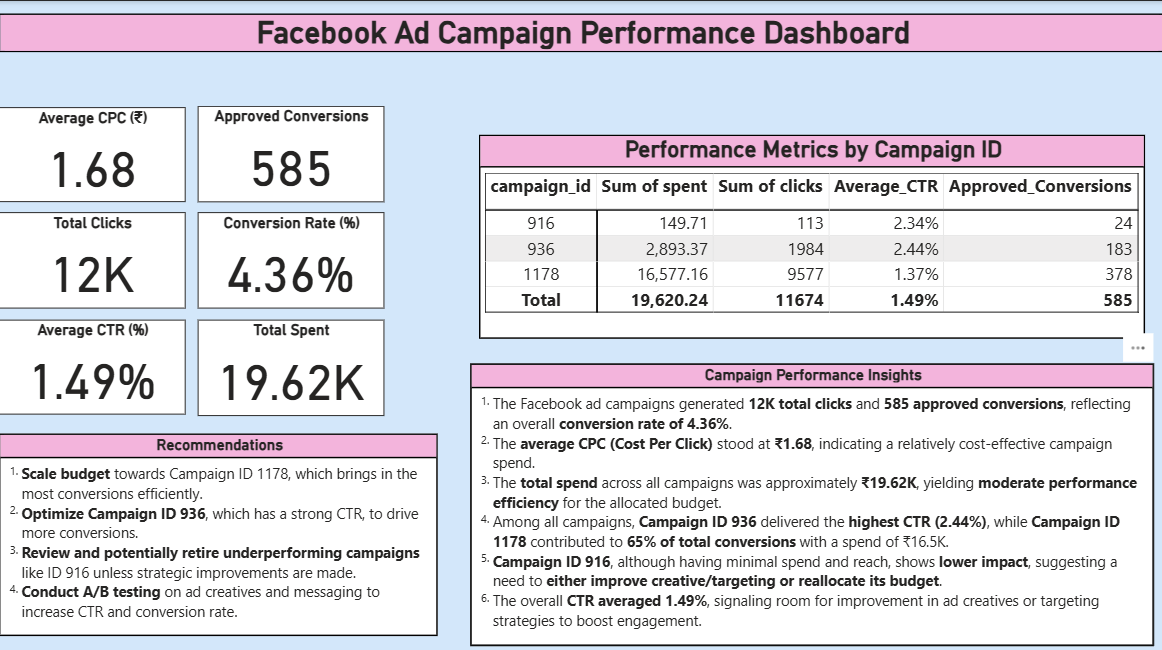

The dashboard page shown, as its layout file describes it:
{"tool":"powerbi","page":{"name":"Page 1","canvas":[1280,720],"ordinal":0},"visuals":[{"type":"card","title":"Total Spent","fields":{"Values":["Sum(Table 1 (FI Task 2 Data Set).spent)"]},"box":[218.2,349.9,204.5,105.7],"z":0},{"type":"card","title":"Average CTR (%)","fields":{"Values":["FB Data.Average_CTR"]},"box":[0,349.9,204.5,104.3],"z":1000},{"type":"card","title":"Average CPC (₹)","fields":{"Values":["FB Data.Average_CPC"]},"box":[0,116.6,204.5,104.3],"z":2000},{"type":"card","title":"Total Clicks","fields":{"Values":["FB Data.Total_Clicks"]},"box":[0,231.9,204.5,105.7],"z":3000},{"type":"card","title":"Approved Conversions","fields":{"Values":["FB Data.Approved_Conversions"]},"box":[218.2,115.3,204.5,105.7],"z":4000},{"type":"card","title":"Conversion Rate (%)","fields":{"Values":["FB Data.Conversion_Rate"]},"box":[218.2,231.9,204.5,105.7],"z":5000},{"type":"pivotTable","title":"Performance Metrics by Campaign ID","fields":{"Rows":["FB Data.campaign_id"],"Values":["Sum(FB Data.spent)","Sum(FB Data.clicks)","FB Data.Average_CTR","FB Data.Approved_Conversions"]},"box":[526.9,146.8,731.4,223.7],"z":6000},{"type":"textbox","title":"Facebook Ad Campaign Performance Dashboard","box":[0,13.7,1280.3,42.5],"z":7000},{"type":"textbox","title":"Campaign Performance Insights","box":[517.3,397.9,750.6,310.1],"z":8000},{"type":"textbox","title":"Recommendations","box":[0,474.8,481.6,222.3],"z":9000}]}

Visuals, with their boxes in screenshot pixels (x1, y1, x2, y2), scaled from the page's 1280x720 canvas onto the 1162x650 screenshot:
"Total Spent" card: locate(198, 316, 384, 411)
"Average CTR (%)" card: locate(0, 316, 186, 410)
"Average CPC (₹)" card: locate(0, 105, 186, 199)
"Total Clicks" card: locate(0, 209, 186, 305)
"Approved Conversions" card: locate(198, 104, 384, 200)
"Conversion Rate (%)" card: locate(198, 209, 384, 305)
"Performance Metrics by Campaign ID" pivotTable: locate(478, 133, 1142, 334)
"Facebook Ad Campaign Performance Dashboard" textbox: locate(0, 12, 1161, 51)
"Campaign Performance Insights" textbox: locate(470, 359, 1151, 639)
"Recommendations" textbox: locate(0, 429, 437, 629)
